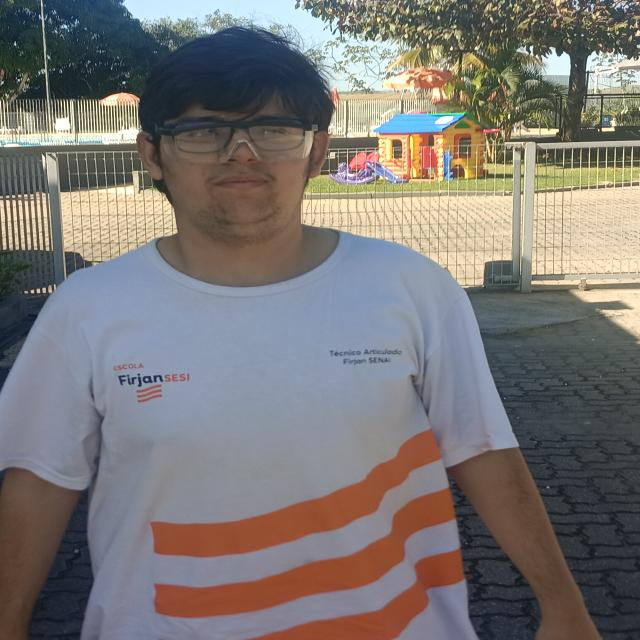oculos-epi: (156, 119, 321, 164)
